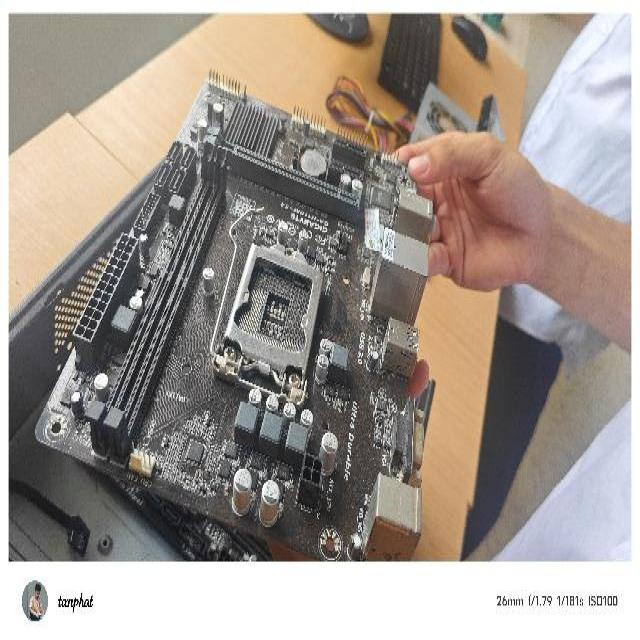Mainboard: (33, 67, 436, 560)
